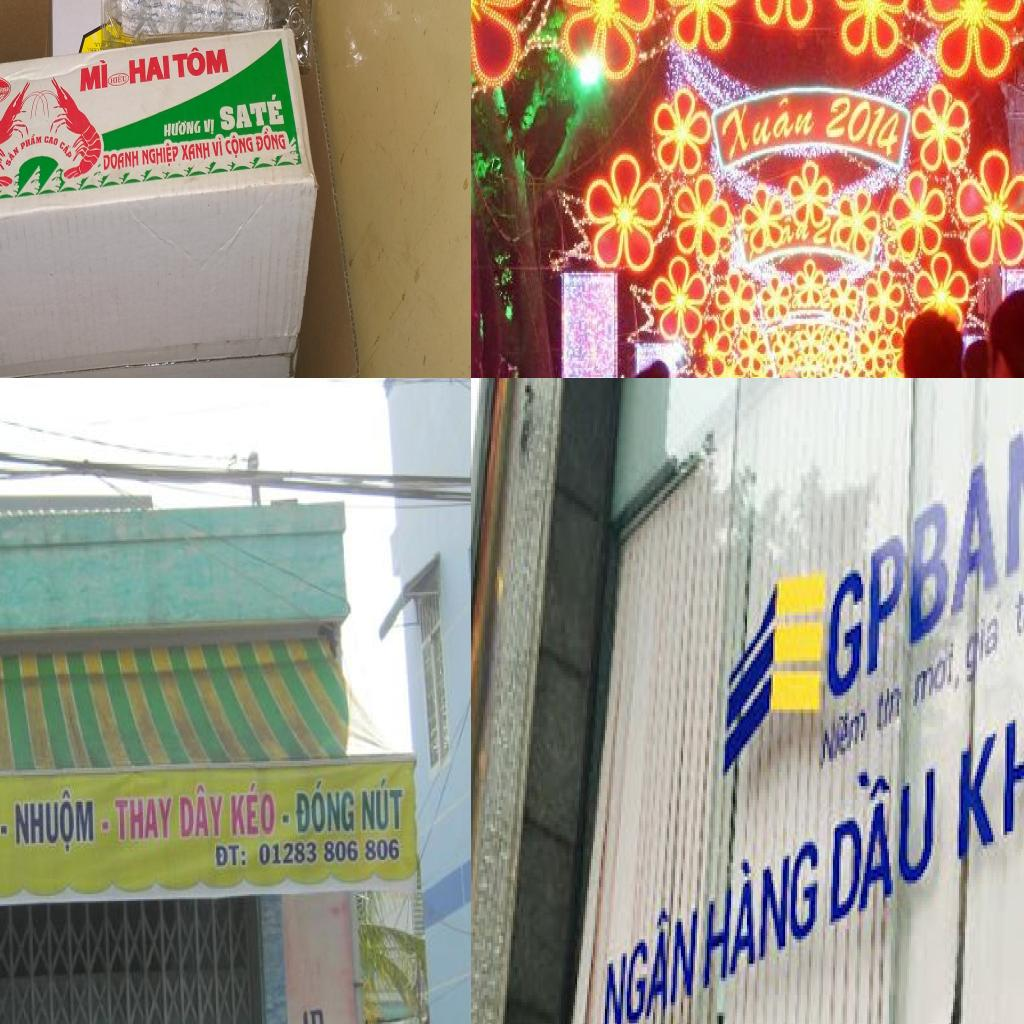text: (829, 378, 1024, 712), (825, 720, 943, 939), (705, 807, 821, 999), (951, 632, 1024, 880), (597, 876, 705, 1024), (719, 88, 819, 165), (14, 788, 101, 855), (815, 688, 871, 782), (909, 626, 963, 720), (965, 591, 1011, 692), (291, 774, 357, 838), (110, 794, 176, 844), (175, 782, 225, 844), (226, 781, 276, 838), (217, 91, 286, 131), (360, 773, 406, 833), (875, 671, 907, 741), (173, 43, 230, 81), (258, 839, 318, 867), (127, 49, 170, 86), (253, 122, 291, 161), (102, 144, 140, 176), (214, 841, 250, 870), (1011, 570, 1024, 650), (321, 840, 362, 865), (79, 58, 107, 94), (142, 139, 178, 167), (365, 838, 404, 863), (162, 116, 202, 140), (225, 133, 255, 164), (0, 138, 21, 172), (181, 141, 211, 164), (19, 127, 44, 153), (58, 133, 78, 164), (299, 1008, 329, 1024), (107, 69, 128, 86), (43, 130, 60, 150), (211, 136, 225, 159), (278, 812, 292, 829), (202, 120, 216, 136), (102, 818, 112, 834), (0, 822, 9, 837)
